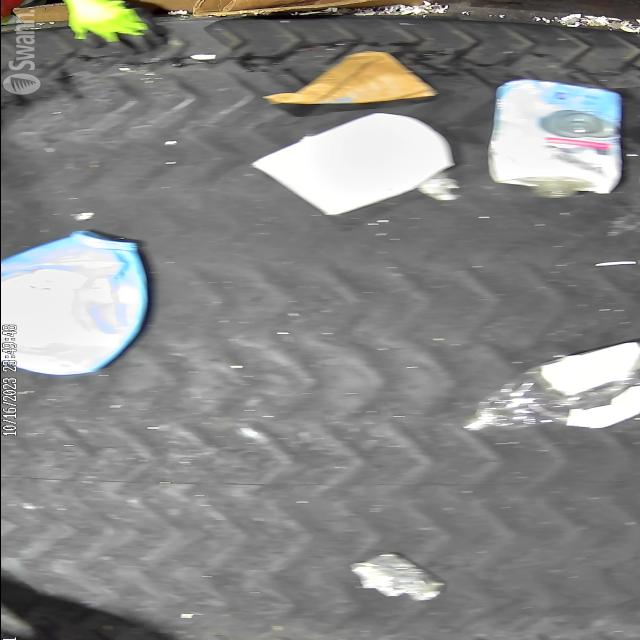non_white_jug: (0, 229, 147, 377)
